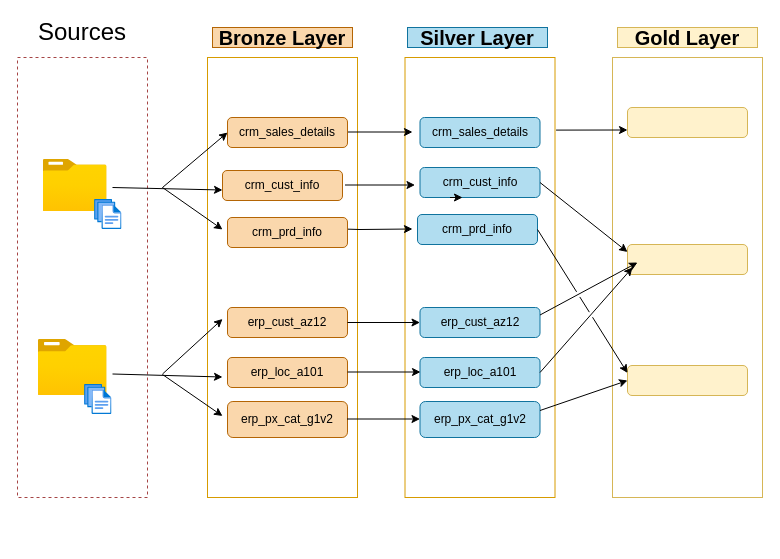
Some shapes in this 780 by 559 pixel diagram are drawn without their labels. The shapes that lost their labels are listed below. From the top down, each one's centre as x and y in pixels, then its label:
At pixel 687 122: "facts_sales".
At pixel 74 185: "CRM".
At pixel 687 259: "dim_customers".
At pixel 72 367: "ERP".
At pixel 687 380: "dim_prodcut".
